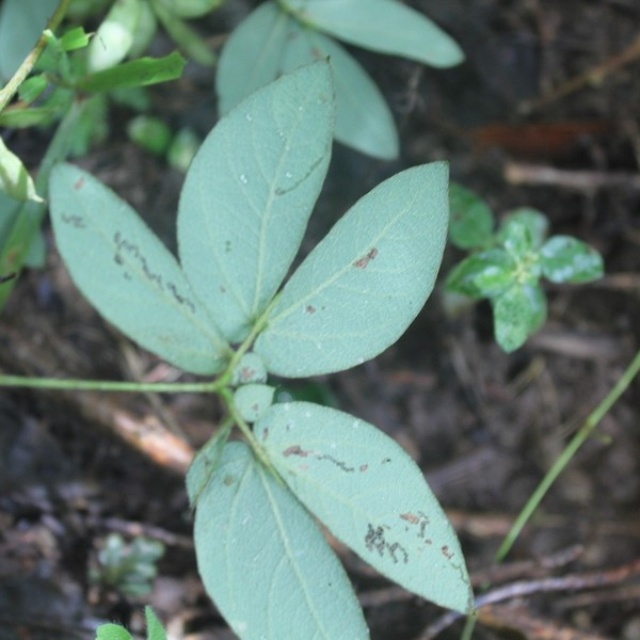obstacle: (19, 59, 507, 624), (439, 163, 595, 338)
